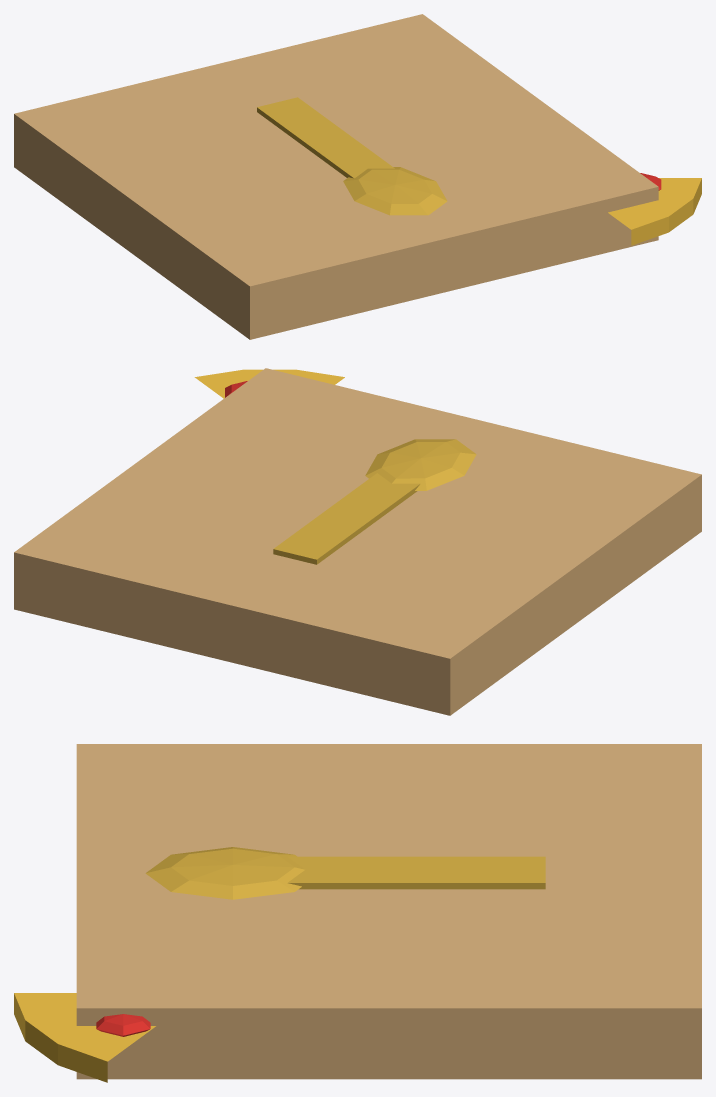
The model's file is pizza_box.glb.
3 views of the same model, one above another, from view 1: azimuth 30°, elevation 25°; view 2: azimuth 150°, elevation 25°; view 3: azimuth 270°, elevation 25° (orthographic). The views are drawn at different scales.
Parts seen in each view (by area): view 1: box_pizza_card, logo_scooter_gold, slice_pizza_cheese; view 2: box_pizza_card, logo_scooter_gold, slice_pizza_cheese; view 3: box_pizza_card, logo_scooter_gold, slice_pizza_cheese, slice_food_tomato.
Part boxes in pixels (x1,y1,x2,y2): box_pizza_card: [14, 14, 658, 339]; logo_scooter_gold: [257, 97, 447, 215]; slice_pizza_cheese: [608, 178, 701, 245]; box_pizza_card: [14, 368, 701, 715]; logo_scooter_gold: [273, 439, 476, 564]; slice_pizza_cheese: [194, 369, 344, 398]; box_pizza_card: [76, 744, 701, 1079]; logo_scooter_gold: [145, 847, 545, 899]; slice_pizza_cheese: [14, 993, 155, 1082]; slice_food_tomato: [96, 1014, 150, 1036].
Size of the model in its own units: 0.4539 by 0.058 by 0.44.
